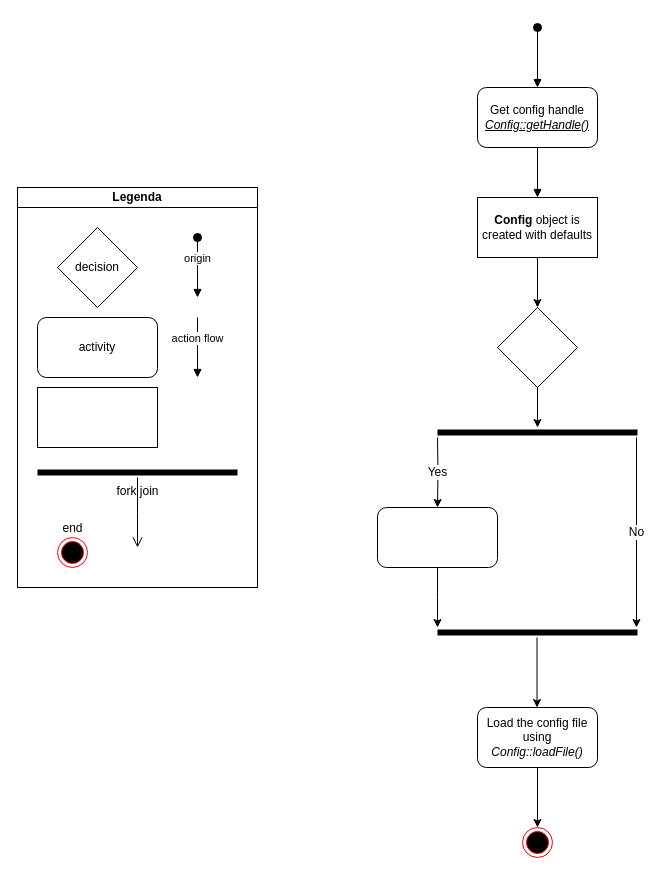
Image size: 662x875. Some labels were removed from this diagram. Each missing label, with the box of its shape:
class / object: (36, 386, 158, 448)
is argument passed to program?: (496, 306, 578, 388)
Set file path to config file using Config::setFilePath(): (376, 506, 498, 568)
